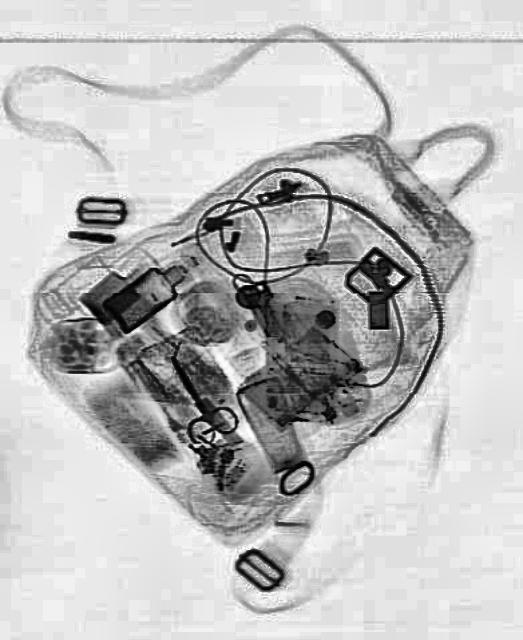Scissors: (148, 341, 238, 454)
